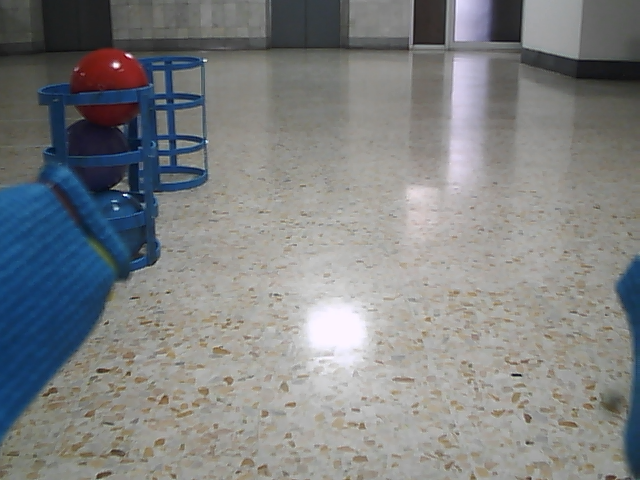Blue ball: (94, 190, 144, 257)
Cyro: (36, 82, 161, 267), (139, 51, 211, 193)
Purple ball: (63, 116, 131, 189)
Red ball: (68, 48, 150, 127)
